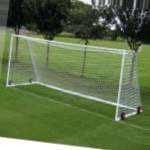goals: (6, 32, 144, 124)
